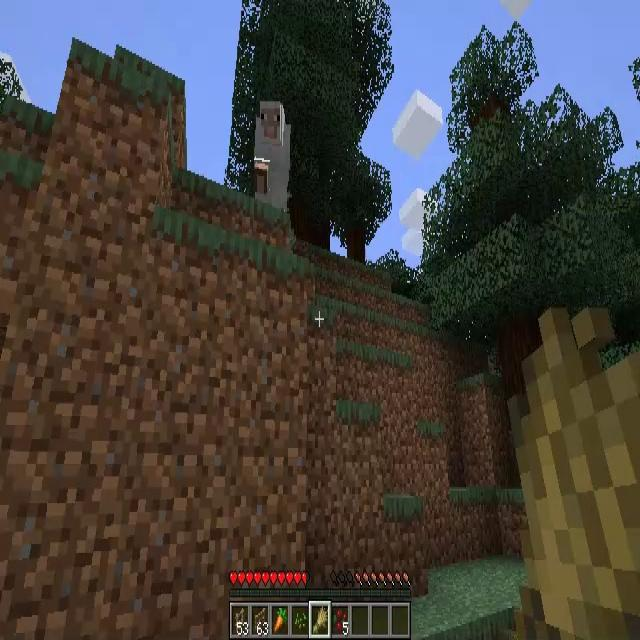sheep: (255, 99, 289, 214)
